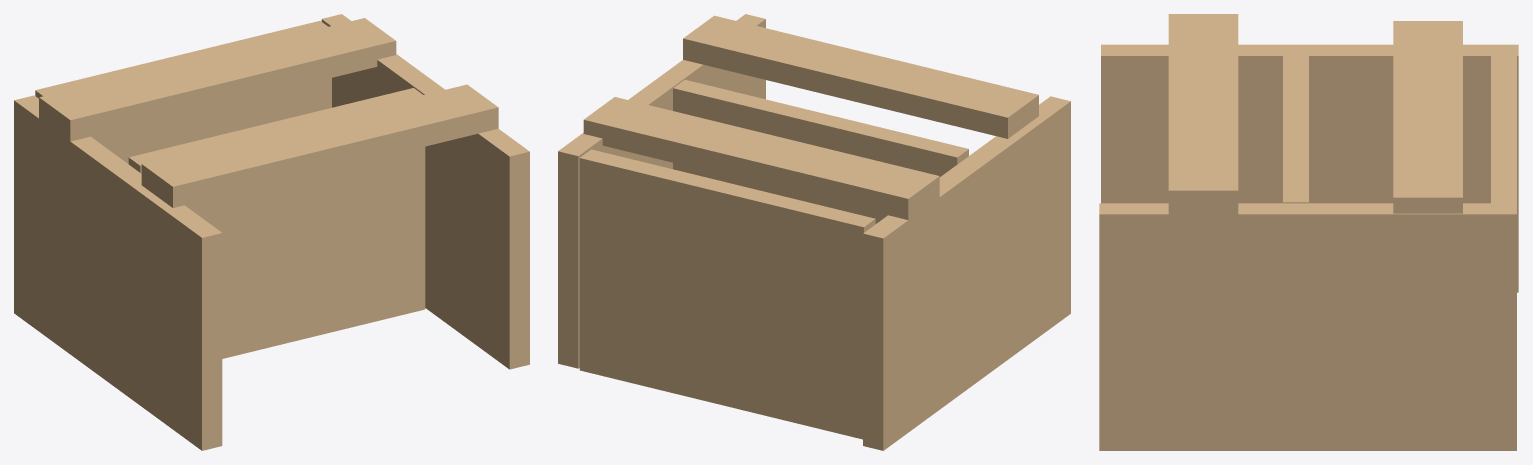
The model's file is tinker.obj.
3 views of the same model, side by side, from view 1: azimuth 30°, elevation 25°; view 2: azimuth 150°, elevation 25°; view 3: azimuth 270°, elevation 25° (orthographic). The views are drawn at different scales.
Parts seen in each view (by area): view 1: obj_0; view 2: obj_0; view 3: obj_0.
Boxes of the visible parts, bbox=[...] form: obj_0: bbox=[14, 14, 529, 450]; obj_0: bbox=[558, 14, 1070, 450]; obj_0: bbox=[1099, 14, 1518, 450].
Size of the model in its own units: 241 by 170 by 241.
